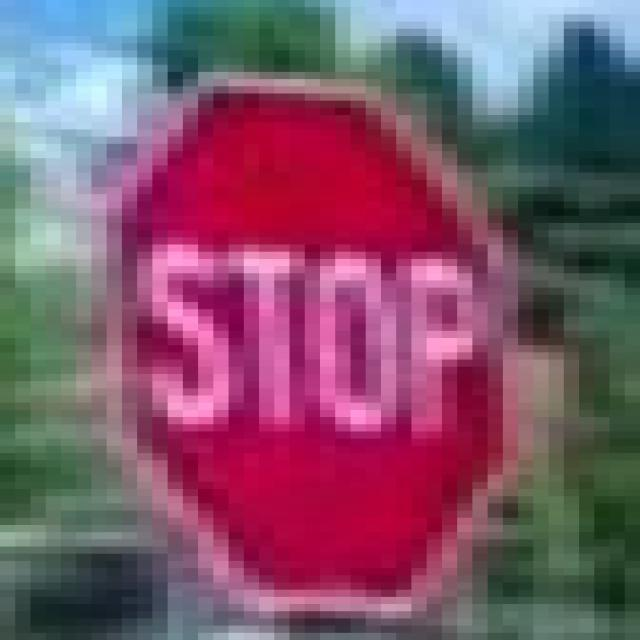Stop-Sign: (138, 92, 496, 600)
